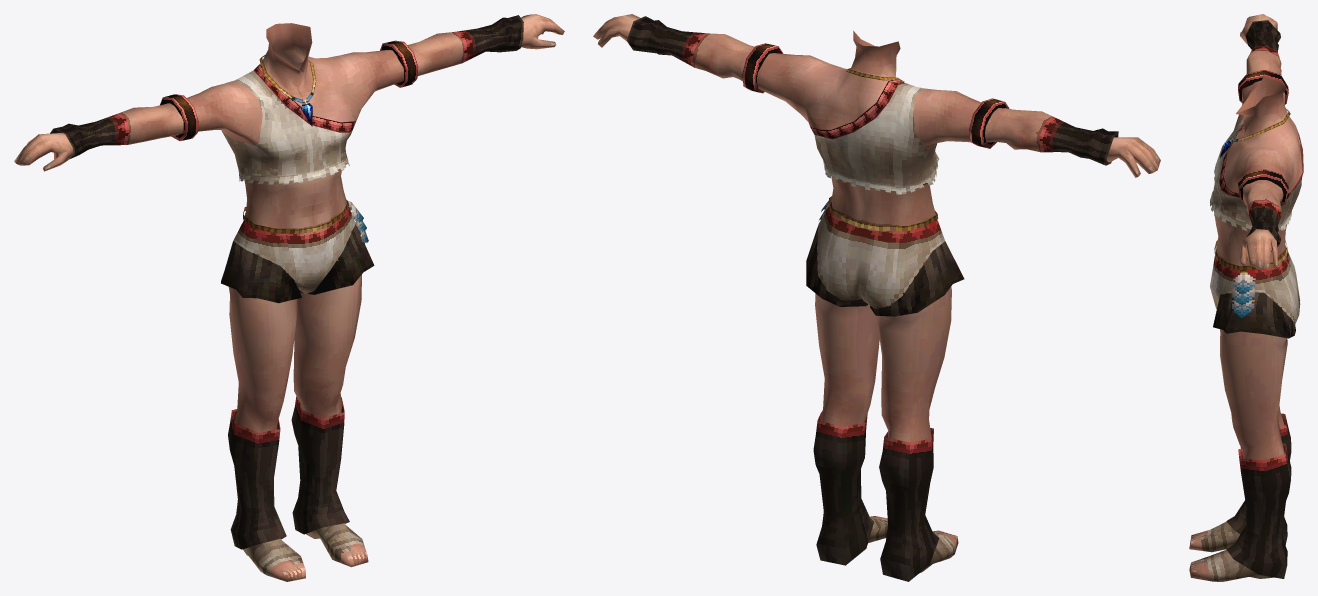
The model's file is m_body015.obj.
3 views of the same model, side by side, from view 1: azimuth 30°, elevation 25°; view 2: azimuth 150°, elevation 25°; view 3: azimuth 270°, elevation 25° (orthographic). The views are drawn at different scales.
Visible parts, largest first — view 1: editpl_m-0000-71, editpl_m-0000-70, editpl_m-0000-69; view 2: editpl_m-0000-71, editpl_m-0000-70, editpl_m-0000-69; view 3: editpl_m-0000-71, editpl_m-0000-70, editpl_m-0000-69.
Part boxes in pixels (<box>): editpl_m-0000-71: <box>221,200,374,581</box>; editpl_m-0000-70: <box>186,23,403,229</box>; editpl_m-0000-69: <box>14,14,564,171</box>; editpl_m-0000-71: <box>806,196,964,581</box>; editpl_m-0000-70: <box>757,30,981,225</box>; editpl_m-0000-69: <box>593,14,1160,177</box>; editpl_m-0000-71: <box>1189,240,1300,581</box>; editpl_m-0000-70: <box>1210,77,1303,266</box>; editpl_m-0000-69: <box>1238,14,1288,270</box>.
Size of the model in its own units: 177 by 159 by 34.89.
3 materials, 3 textured.
